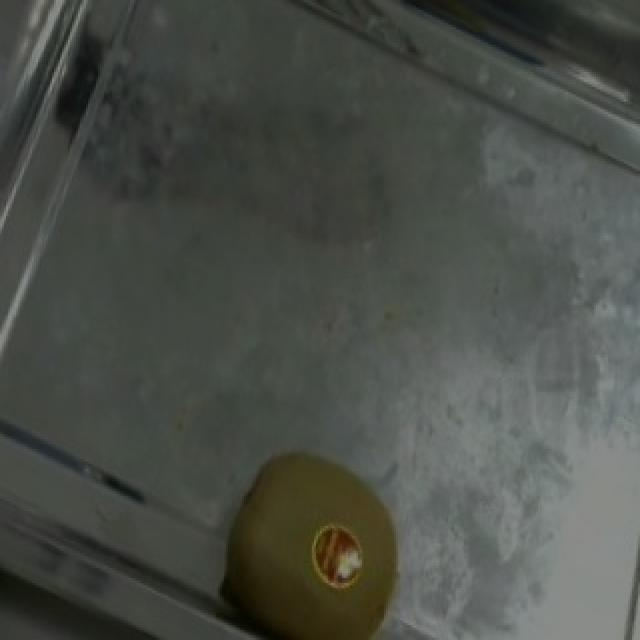Fruit: (184, 421, 438, 640)
